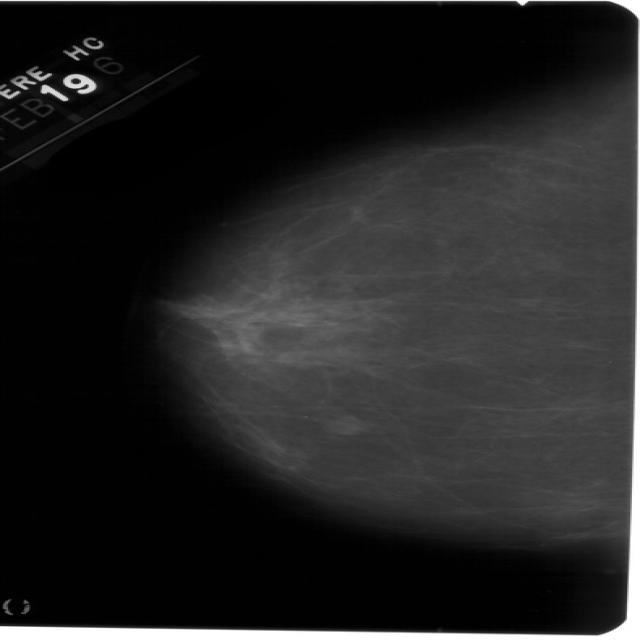tumour: (322, 415, 360, 434)
